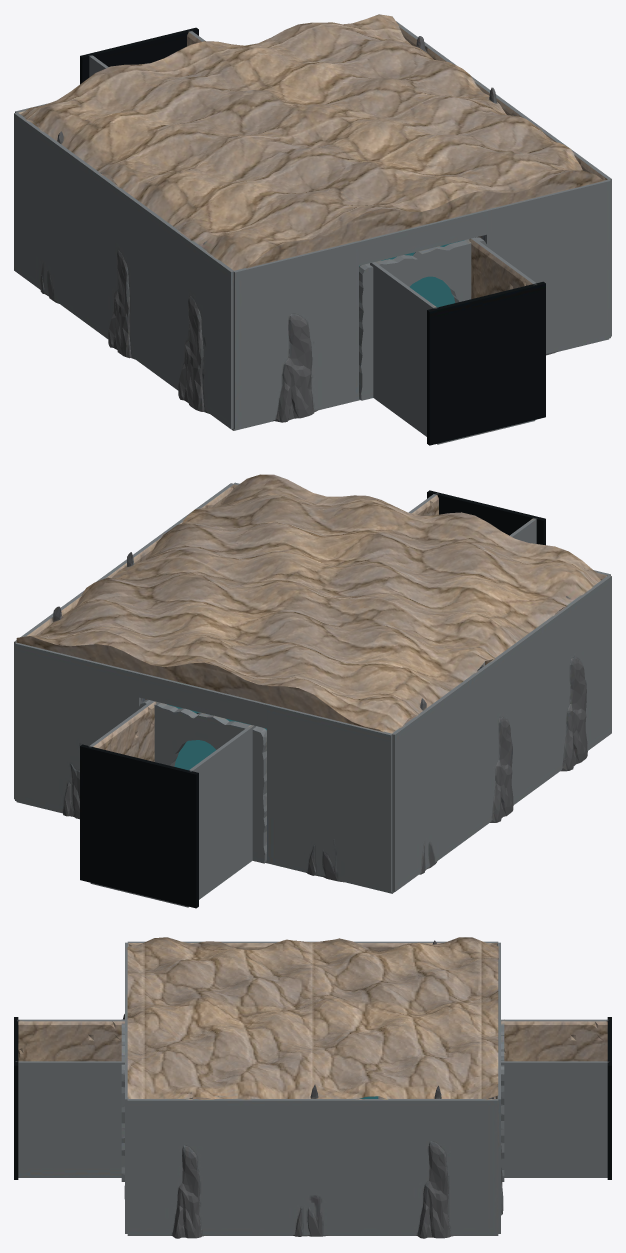
The model's file is room.glb.
3 views of the same model, one above another, from view 1: azimuth 30°, elevation 25°; view 2: azimuth 150°, elevation 25°; view 3: azimuth 270°, elevation 25° (orthographic). The views are drawn at different scales.
Visible parts, largest first — view 1: DEEP-FORD; view 2: DEEP-FORD; view 3: DEEP-FORD.
Part boxes in pixels (<box>): DEEP-FORD: <box>14,14,611,445</box>; DEEP-FORD: <box>14,474,611,908</box>; DEEP-FORD: <box>14,937,611,1238</box>.
Size of the model in its own units: 10.46 by 4.83 by 16.12.
Materials: 1 (1 with a texture image).
